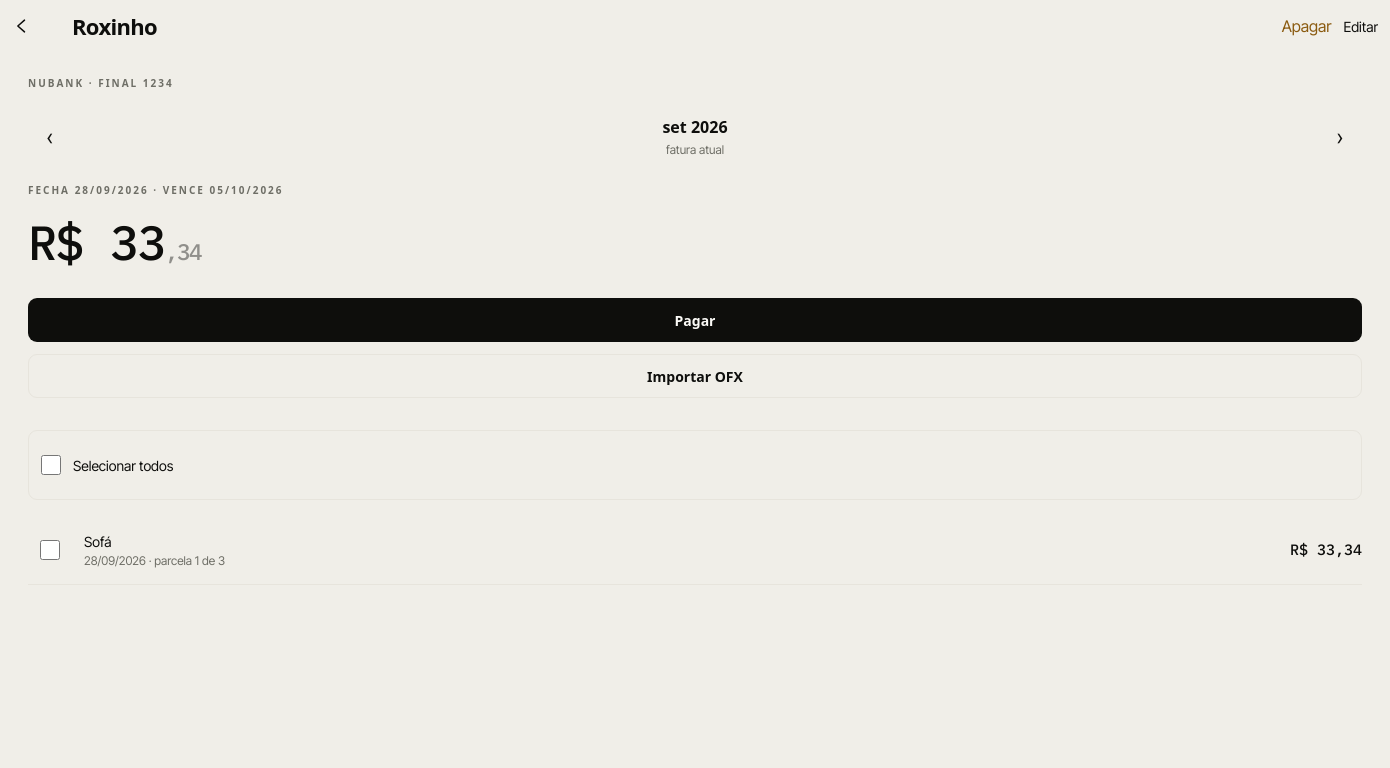
Test: CartaoDetalhe › desmarca todos ao clicar novamente em 'Selecionar todos'
What coordinates should you click on to do the following:
click the checkbox labelled "Selecionar todos"
I would click on:
 (51, 465)
Its box is top-left (41, 455), bottom-right (61, 475).
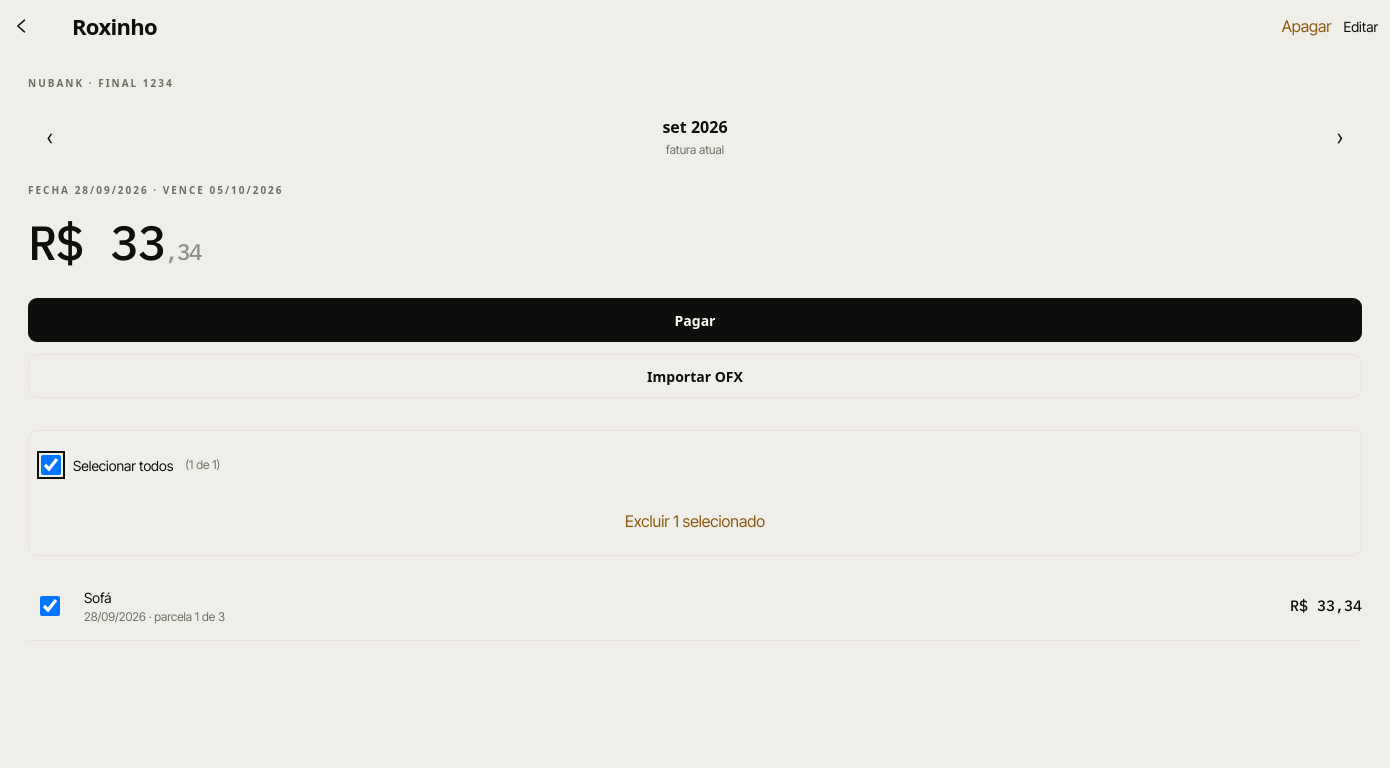
Now the checkbox named "Selecionar Sofá" is checked, box top-left (40, 596), bottom-right (60, 616)
What coordinates should you click on to do the following:
click the checkbox labelled "Selecionar todos"
I would click on:
 (51, 465)
Its box is top-left (41, 455), bottom-right (61, 475).
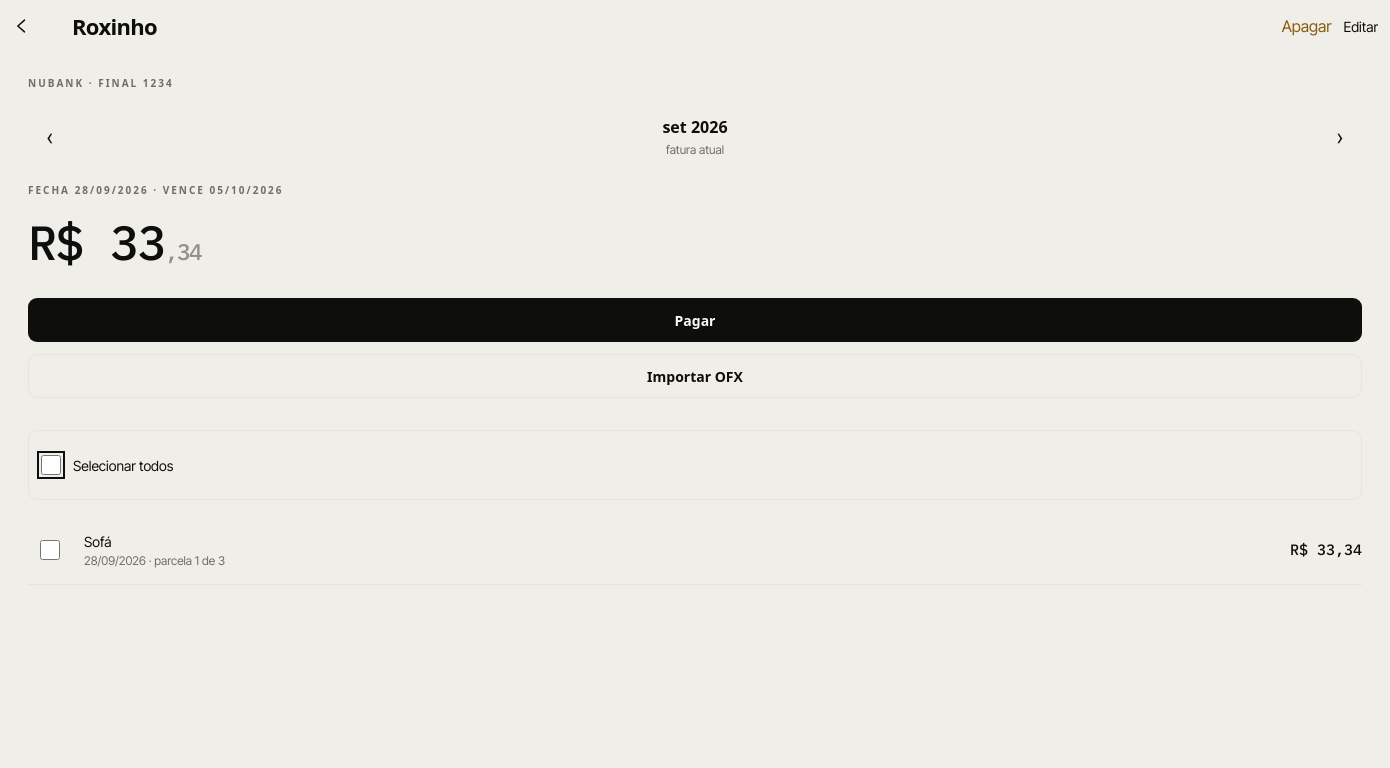
Now the checkbox named "Selecionar Sofá" is not checked, box top-left (40, 540), bottom-right (60, 560)
